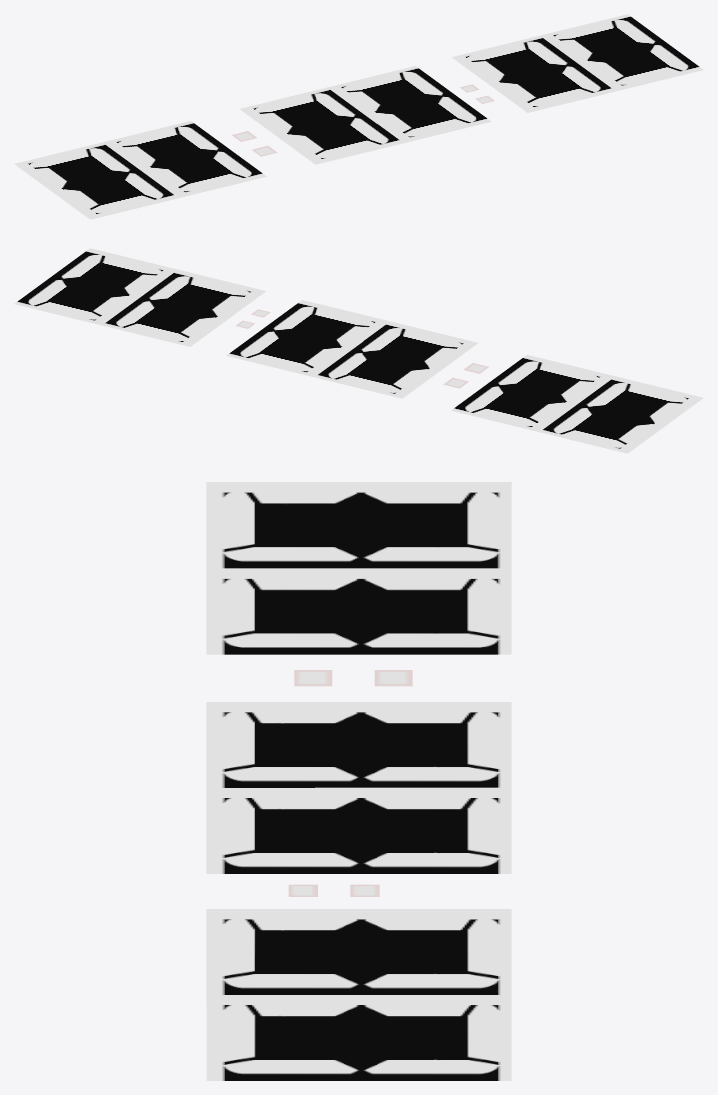
The model's file is Neitri's Clock V3 C.fbx.
3 views of the same model, one above another, from view 1: azimuth 30°, elevation 25°; view 2: azimuth 150°, elevation 25°; view 3: azimuth 270°, elevation 25° (orthographic). The views are drawn at different scales.
Visible parts, largest first — view 1: clock; view 2: clock; view 3: clock.
Boxes of the visible parts, x1,y1,x2,y2 form: clock: [14, 14, 703, 219]; clock: [14, 248, 703, 453]; clock: [206, 482, 511, 1080].
Size of the model in its own units: 5.36 by 0.000404 by 1.16.
Materials: 1 (1 with a texture image).
